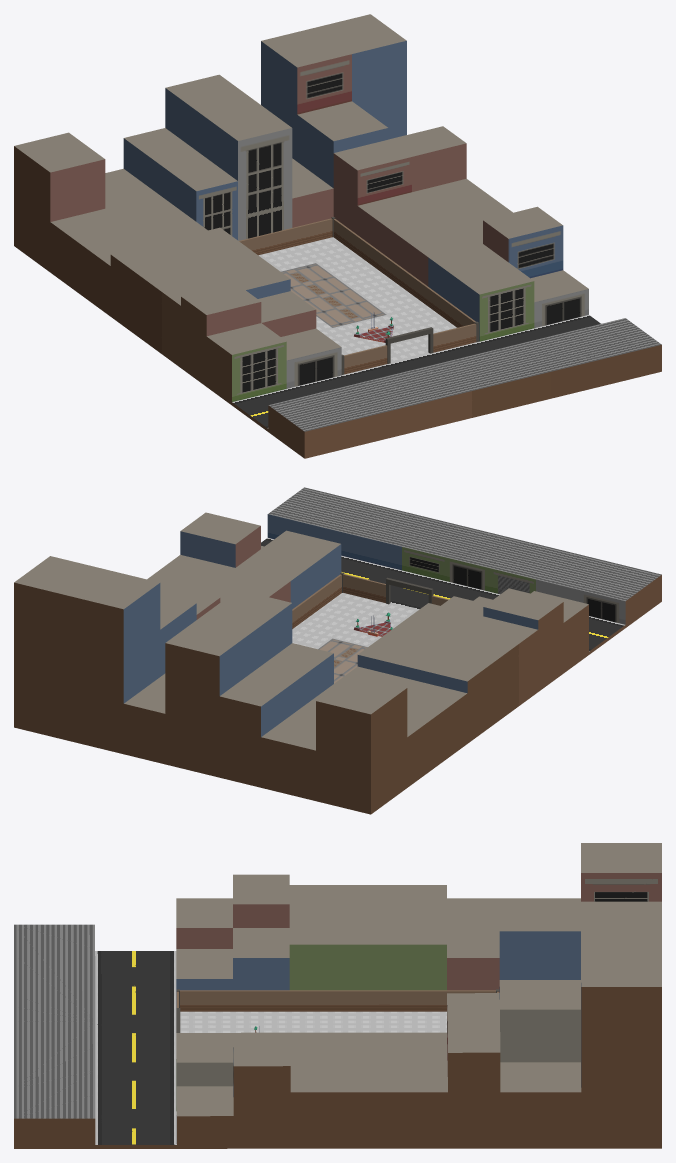
The model's file is clickright_map.glb.
The picture shows the model from 3 angles, top to bottom: view 1: azimuth 30°, elevation 25°; view 2: azimuth 150°, elevation 25°; view 3: azimuth 270°, elevation 25°; orthographic projection. The views are drawn at different scales.
Visible parts, largest first — view 1: base; view 2: base; view 3: base.
Boxes of the visible parts, <box> form: base: <box>14,14,661,458</box>; base: <box>14,487,661,814</box>; base: <box>14,843,661,1148</box>.
Bounding box in the file's own units: 15.86 × 6.14 × 22.35.
Materials: 5 (5 with a texture image).
